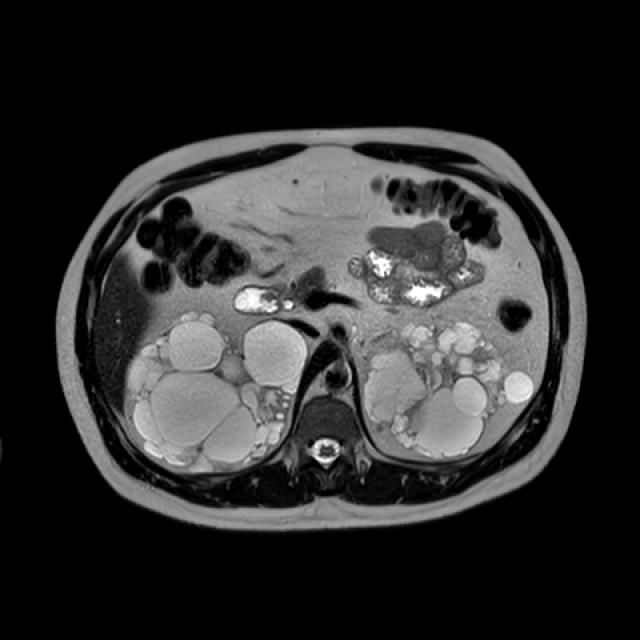sag: (126, 309, 309, 473)
sol: (364, 320, 534, 458)
